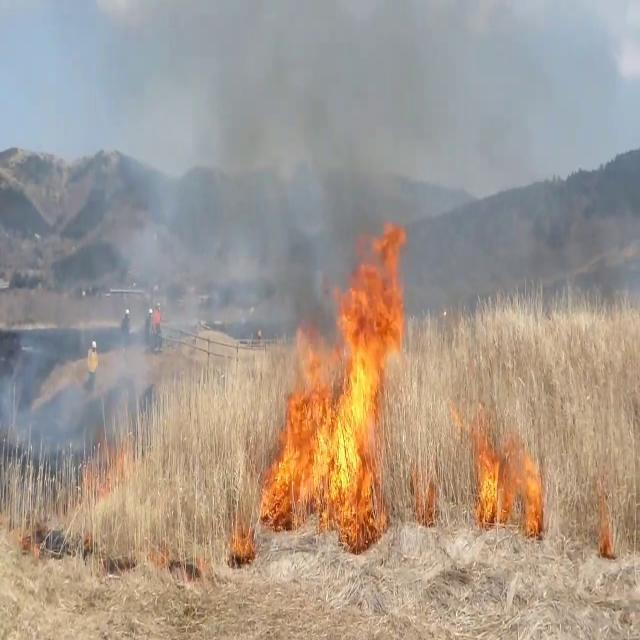Fire: (267, 213, 413, 521), (472, 428, 545, 532)
Smoke: (161, 0, 491, 260)
